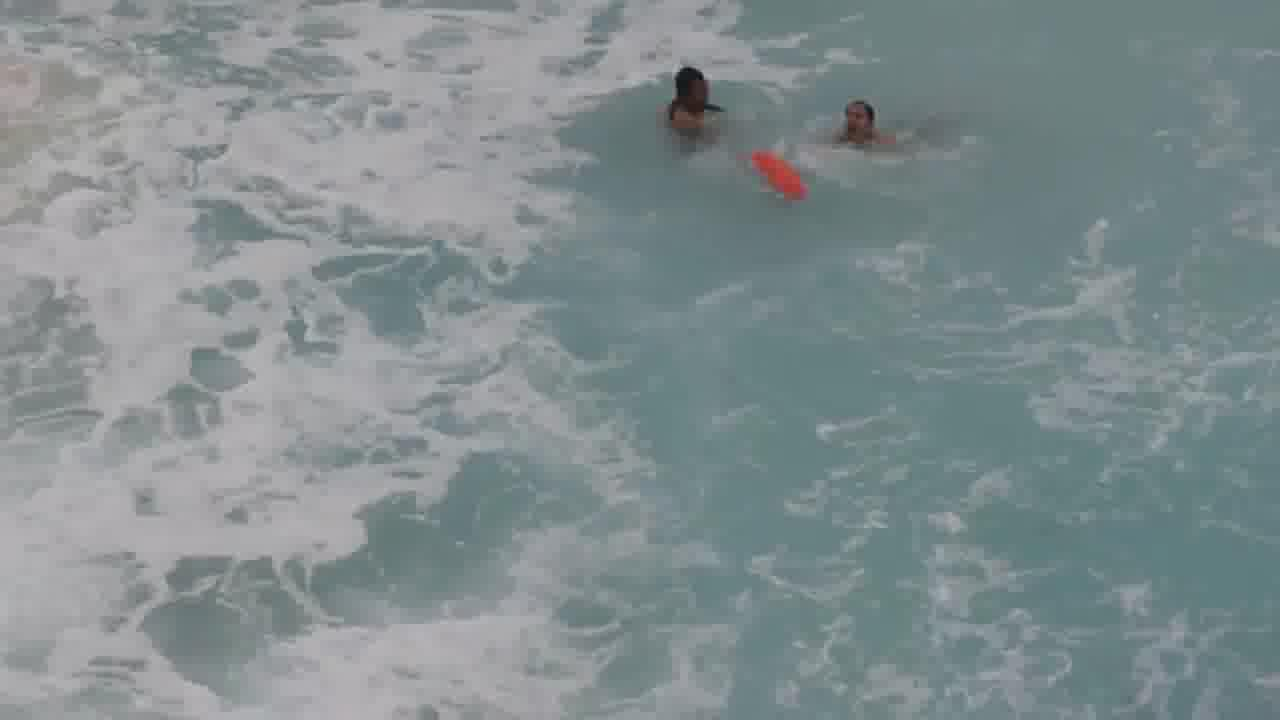swimmer: (650, 54, 723, 144), (825, 99, 915, 153)
